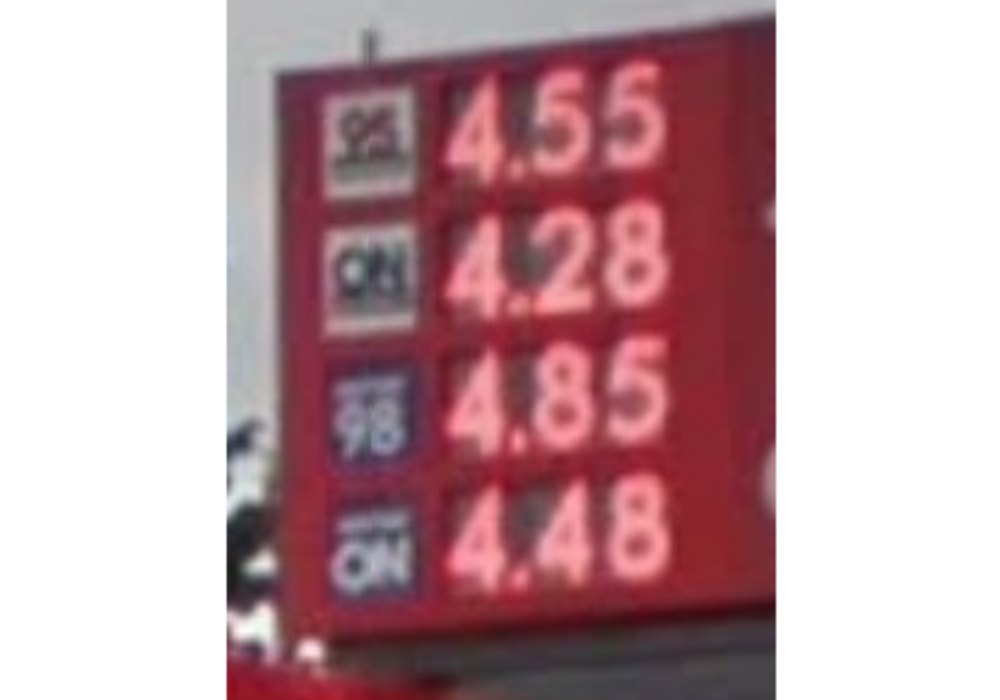ON: (314, 220, 419, 334), (324, 506, 418, 605)
PB95: (322, 82, 415, 202)
PB98: (323, 363, 413, 467)
